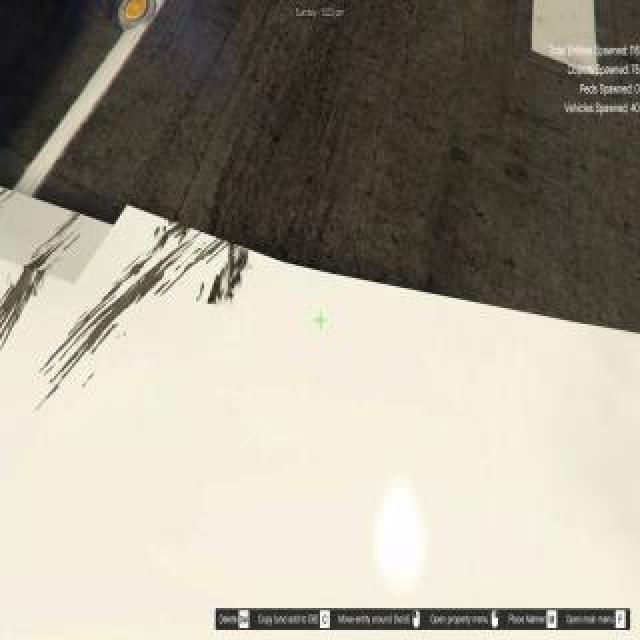dent: (88, 265, 163, 351), (9, 251, 53, 313), (210, 247, 250, 304), (179, 238, 224, 279)
